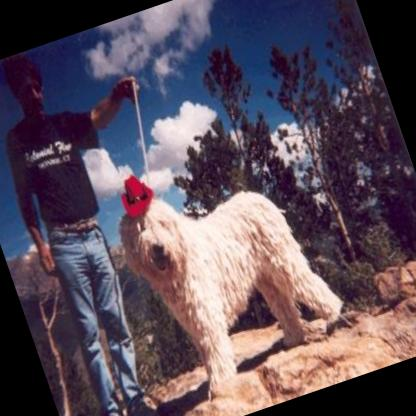komondor: (104, 143, 360, 408)
